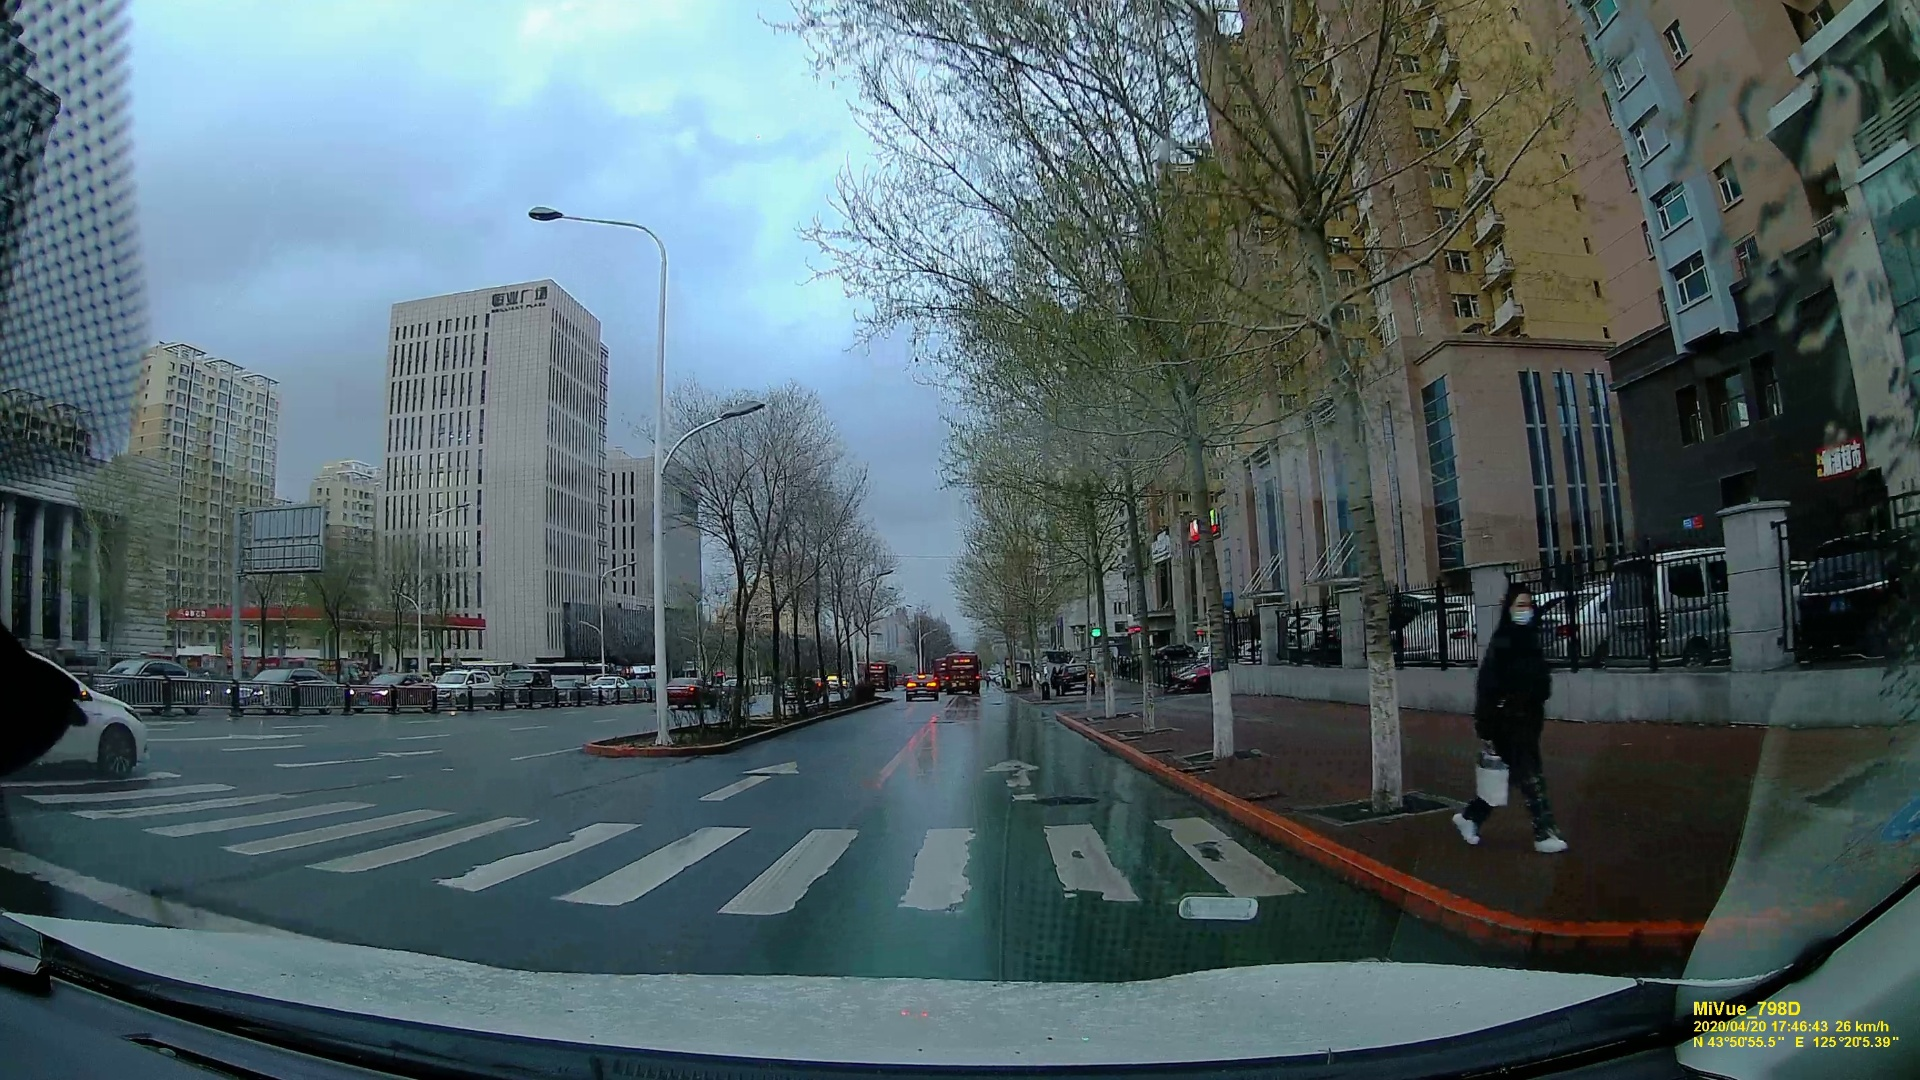bus: (944, 651, 979, 694)
person: (1443, 580, 1593, 880)
vehicle: (12, 658, 154, 786), (903, 673, 936, 698)
